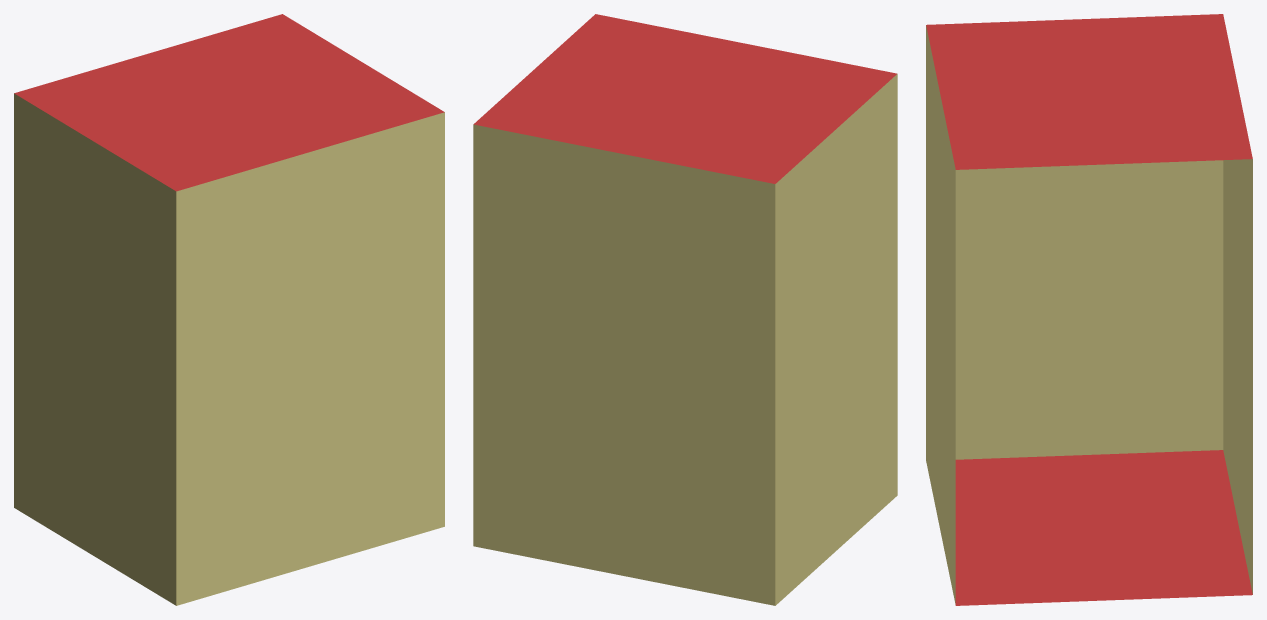
3 renders of one model, left to right at view 1: azimuth 30°, elevation 25°; view 2: azimuth 150°, elevation 25°; view 3: azimuth 270°, elevation 25°, orthographic. The views are drawn at different scales.
Visible parts, largest first — view 1: group_4, group_3; view 2: group_4, group_3; view 3: group_4, group_3, group_5.
Boxes of the visible parts, <box> form: group_4: <box>14,93,444,605</box>; group_3: <box>14,14,444,191</box>; group_4: <box>473,74,897,605</box>; group_3: <box>473,14,896,183</box>; group_4: <box>926,25,1252,604</box>; group_3: <box>926,14,1252,169</box>; group_5: <box>955,450,1252,605</box>.
Size of the model in its own units: 7.15 by 6.33 by 9.32.
